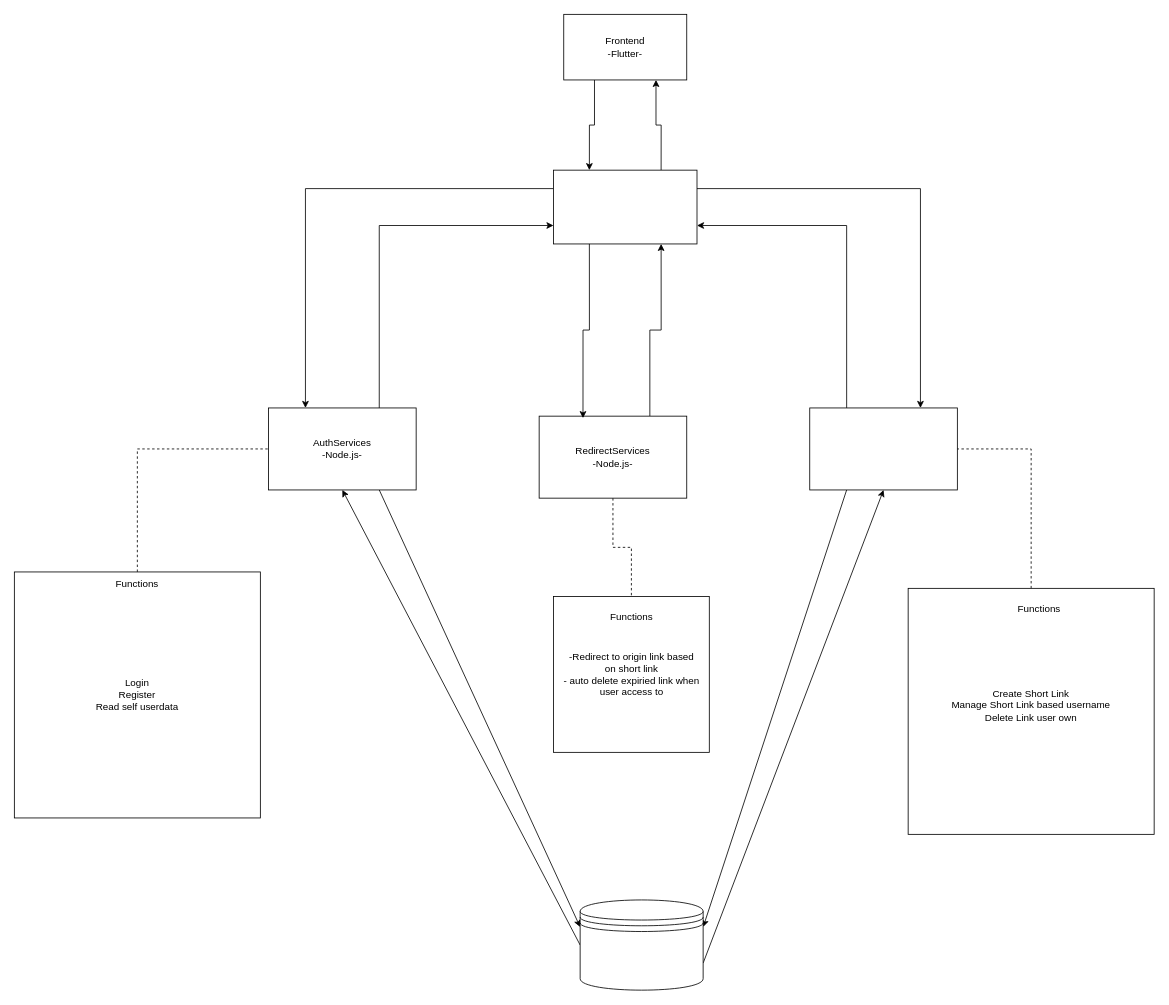
Image size: 1169x1005. Some labels were removed from this diagram. The centre of each missing label's shape, as x and y in pixels:
"APIGateway -ASP.NET-" belongs at (625,206).
"Database System -SQL Server-" belongs at (641,944).
"LinkServices -ASP.NET-" belongs at (883,448).
